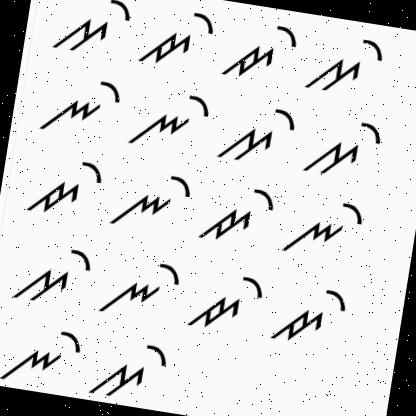jay: (19, 146, 109, 224), (184, 266, 268, 344), (268, 279, 354, 354), (194, 176, 278, 251), (136, 2, 219, 76), (218, 17, 300, 87)
nyay: (34, 64, 123, 146), (96, 246, 184, 325), (0, 311, 85, 392), (107, 162, 194, 240), (280, 191, 367, 266), (126, 82, 212, 155)
say: (298, 26, 388, 103), (88, 332, 174, 408), (215, 95, 300, 170), (7, 239, 94, 311), (302, 112, 388, 184), (47, 0, 136, 66)
